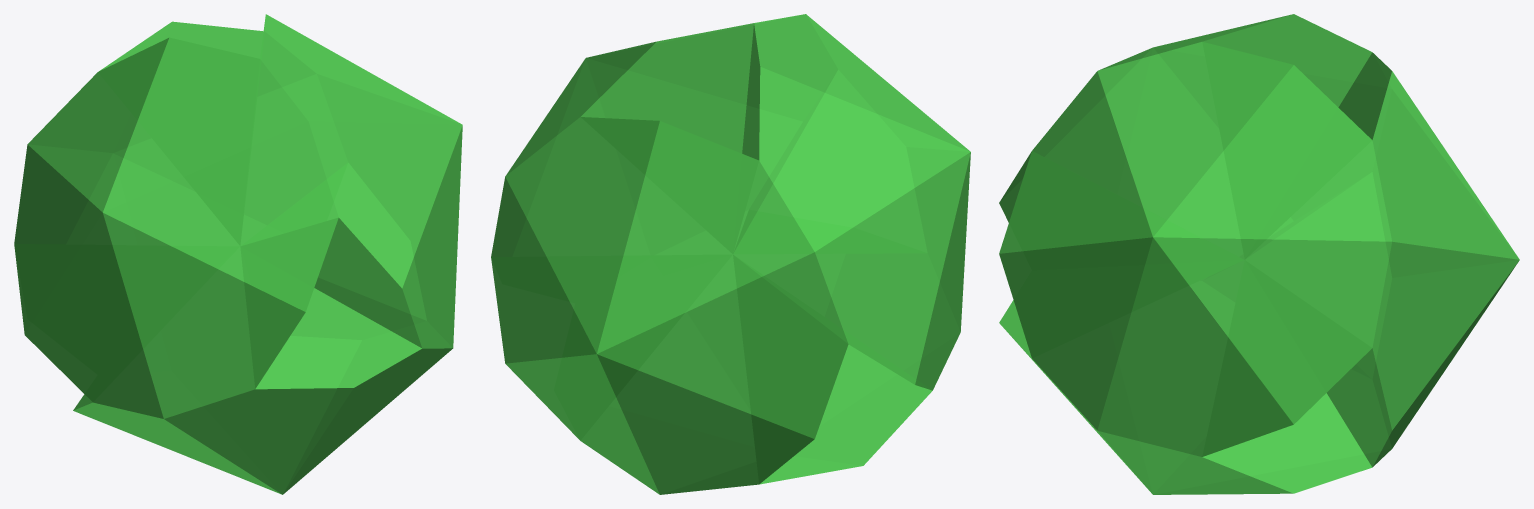
Rendered from Truncated_Tetrahedron.obj.
The picture shows the model from 3 angles, left to right: view 1: azimuth 30°, elevation 25°; view 2: azimuth 150°, elevation 25°; view 3: azimuth 270°, elevation 25°; orthographic projection. The views are drawn at different scales.
Size of the model in its own units: 1.97 by 2.06 by 2.13.
